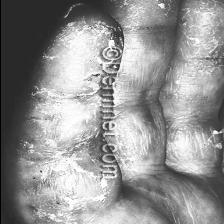Non-Cancerous Skin Condition: (10, 5, 122, 224), (165, 0, 224, 182), (101, 0, 178, 72)
